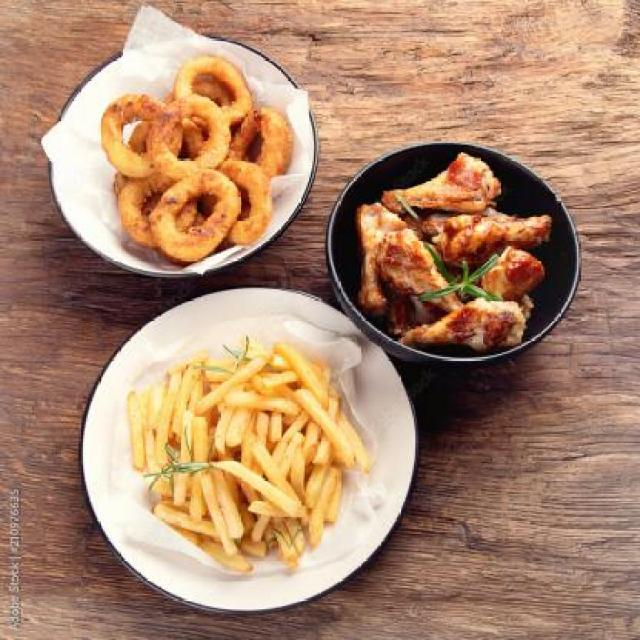chicken wings: (345, 146, 560, 354)
french fries: (118, 338, 377, 580)
onion rings: (95, 58, 298, 265)
